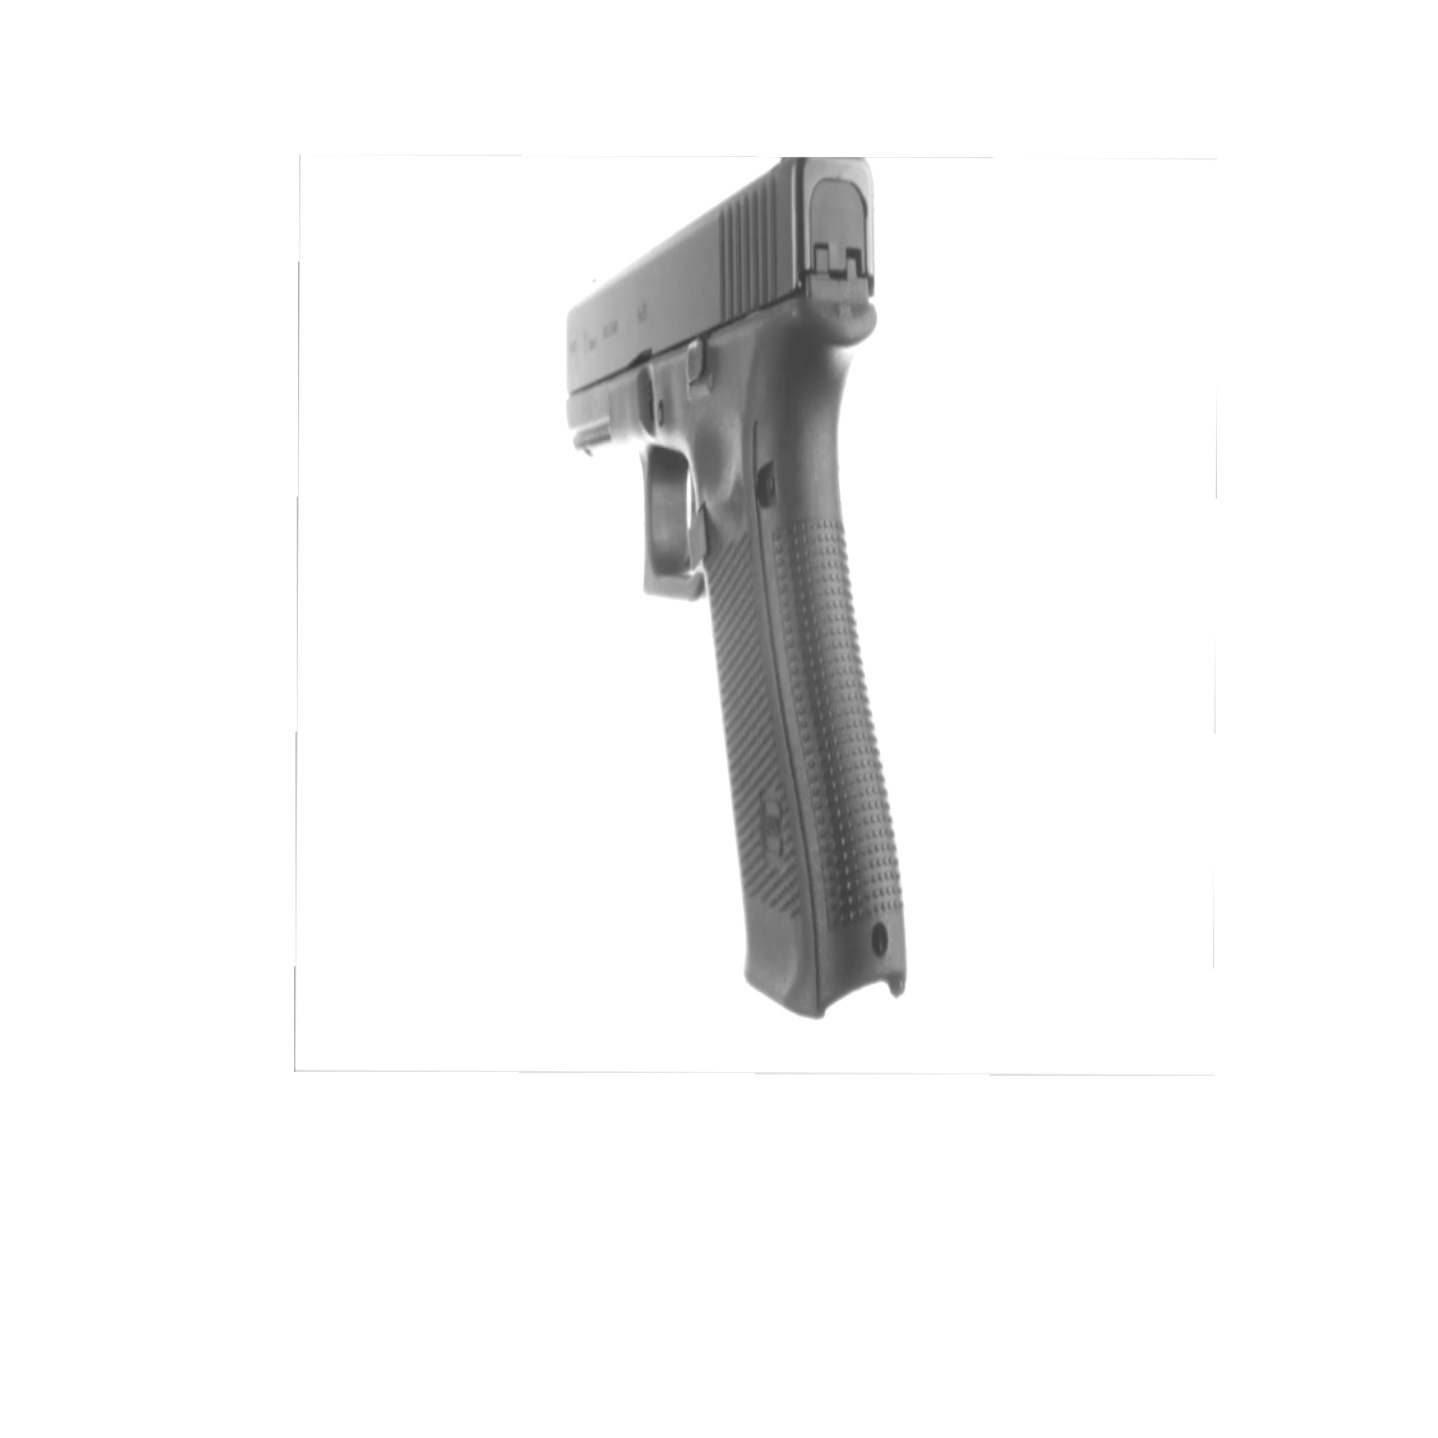gun: (568, 155, 909, 1018)
